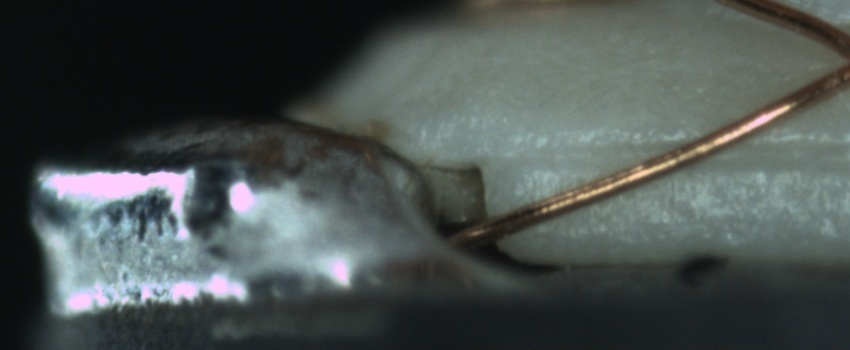CL: (810, 20, 850, 98)
DL: (515, 120, 845, 185)
